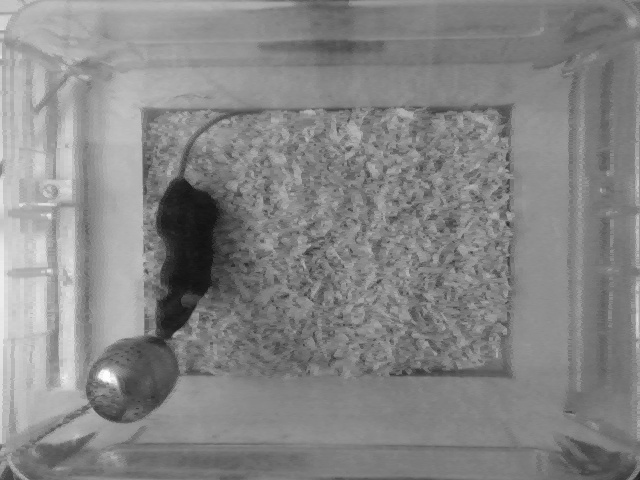mice: (153, 107, 267, 340)
